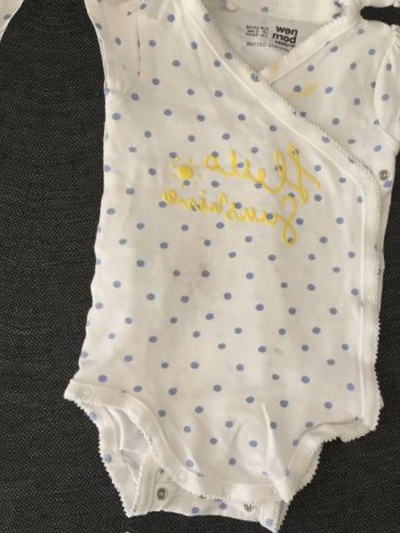Body: (29, 0, 400, 533), (0, 0, 30, 506), (0, 520, 391, 533), (83, 0, 400, 16), (392, 25, 400, 533)
